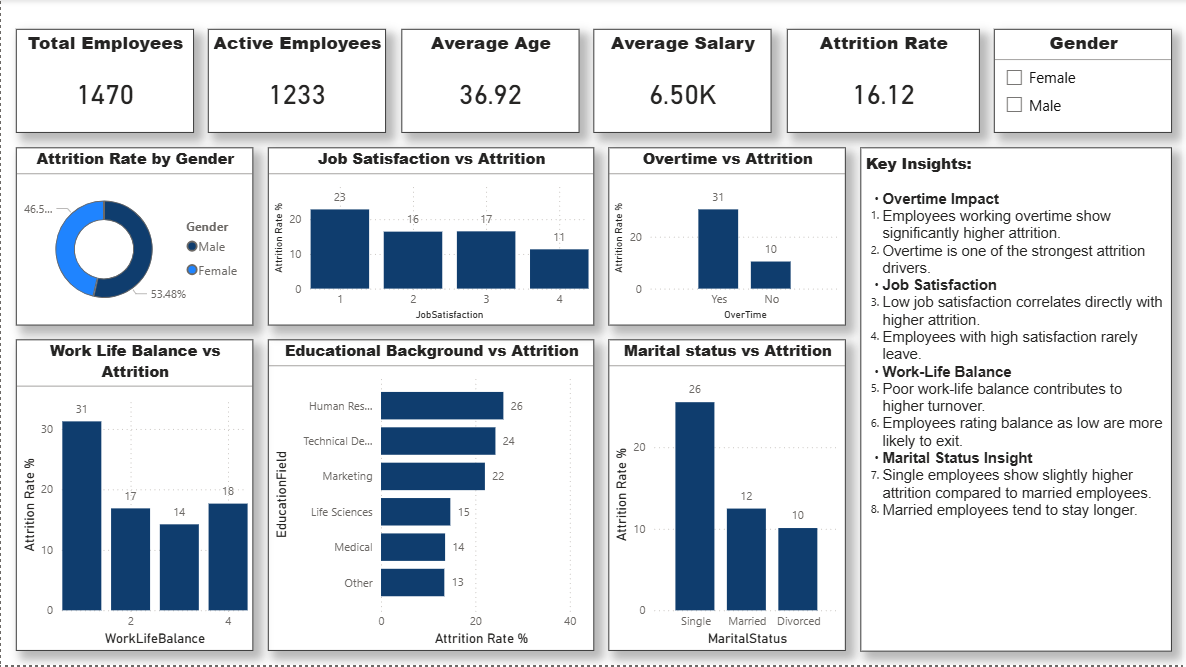

What the dashboard file says about the page in this screenshot:
{"tool":"powerbi","page":{"name":"Employee Demographics","canvas":[1280,720],"ordinal":1},"visuals":[{"type":"card","title":"Total Employees","fields":{"Values":["HR Attrition.Total_Employees"]},"box":[16,32,192,112],"z":0},{"type":"card","title":"Active Employees","fields":{"Values":["HR Attrition.Active Employees"]},"box":[224,32,192,112],"z":1000},{"type":"card","title":"Average Age","fields":{"Values":["HR Attrition.Average Age"]},"box":[432,32,192,112],"z":2000},{"type":"card","title":"Average Salary","fields":{"Values":["HR Attrition.Average Salary"]},"box":[640,32,192,112],"z":3000},{"type":"card","title":"Attrition Rate","fields":{"Values":["HR Attrition.Attrition Rate %"]},"box":[848,32,208,112],"z":4000},{"type":"slicer","title":"Gender ","fields":{"Values":["HR Attrition.Gender"]},"box":[1072,32,192,112],"z":5000},{"type":"donutChart","title":"Attrition Rate by Gender","fields":{"Category":["HR Attrition.Gender"],"Y":["HR Attrition.Attrition Rate %"]},"box":[16,160,256,192],"z":6000},{"type":"clusteredBarChart","title":"Educational Background vs Attrition","fields":{"Category":["HR Attrition.EducationField"],"Y":["HR Attrition.Attrition Rate %"]},"box":[288,368,352,336],"z":7000},{"type":"clusteredColumnChart","title":"Job Satisfaction vs Attrition","fields":{"Category":["HR Attrition.JobSatisfaction"],"Y":["HR Attrition.Attrition Rate %"]},"box":[288,160,352,192],"z":8000},{"type":"clusteredColumnChart","title":"Overtime vs Attrition","fields":{"Category":["HR Attrition.OverTime"],"Y":["HR Attrition.Attrition Rate %"]},"box":[656,160,256,192],"z":9000},{"type":"clusteredColumnChart","title":"Work Life Balance vs Attrition","fields":{"Category":["HR Attrition.WorkLifeBalance"],"Y":["HR Attrition.Attrition Rate %"]},"box":[16,368,256,336],"z":10000},{"type":"clusteredColumnChart","title":"Marital status vs Attrition","fields":{"Category":["HR Attrition.MaritalStatus"],"Y":["HR Attrition.Attrition Rate %"]},"box":[656,368,256,336],"z":11000},{"type":"textbox","box":[928,160,336,544],"z":11001}]}

Visuals, with their boxes in screenshot pixels (x1, y1, x2, y2), scaled from the page's 1280x720 canvas onto the 1186x667 screenshot:
"Total Employees" card: Rect(15, 30, 193, 133)
"Active Employees" card: Rect(208, 30, 385, 133)
"Average Age" card: Rect(400, 30, 578, 133)
"Average Salary" card: Rect(593, 30, 771, 133)
"Attrition Rate" card: Rect(786, 30, 978, 133)
"Gender " slicer: Rect(993, 30, 1171, 133)
"Attrition Rate by Gender" donutChart: Rect(15, 148, 252, 326)
"Educational Background vs Attrition" clusteredBarChart: Rect(267, 341, 593, 652)
"Job Satisfaction vs Attrition" clusteredColumnChart: Rect(267, 148, 593, 326)
"Overtime vs Attrition" clusteredColumnChart: Rect(608, 148, 845, 326)
"Work Life Balance vs Attrition" clusteredColumnChart: Rect(15, 341, 252, 652)
"Marital status vs Attrition" clusteredColumnChart: Rect(608, 341, 845, 652)
textbox: Rect(860, 148, 1171, 652)
